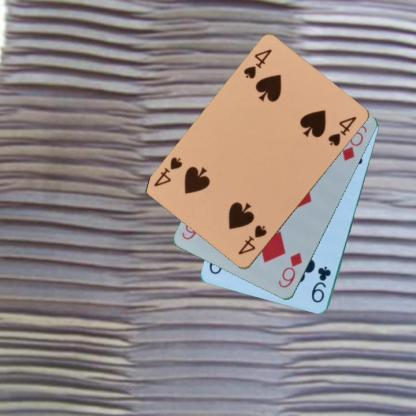4s: (240, 47, 274, 81), (235, 223, 269, 256)
6d: (276, 249, 304, 290)
9c: (309, 264, 332, 305)
